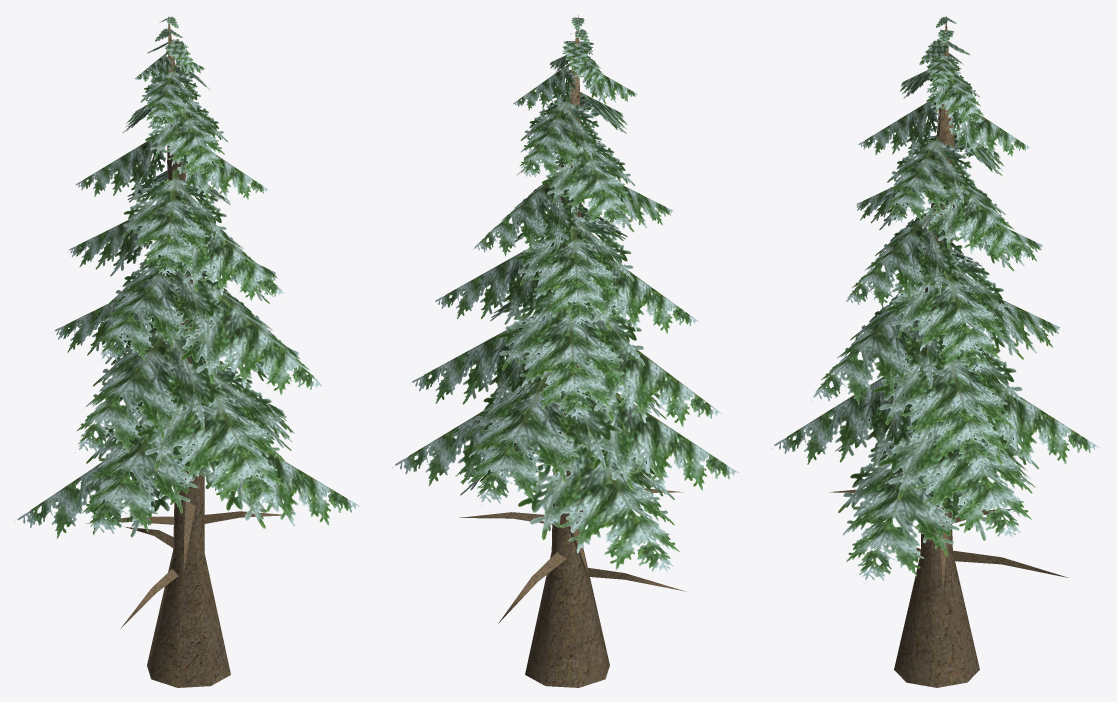
The model's file is pine-mid.glb.
3 renders of one model, left to right at view 1: azimuth 30°, elevation 25°; view 2: azimuth 150°, elevation 25°; view 3: azimuth 270°, elevation 25°, orthographic. The views are drawn at different scales.
Visible parts, largest first — view 1: fir_branch.png__, fir_bark.png__; view 2: fir_branch.png__, fir_bark.png__; view 3: fir_branch.png__, fir_bark.png__.
Boxes of the visible parts, bbox=[...] form: fir_branch.png__: bbox=[14, 16, 360, 538]; fir_bark.png__: bbox=[86, 16, 281, 687]; fir_branch.png__: bbox=[392, 17, 742, 571]; fir_bark.png__: bbox=[459, 15, 685, 687]; fir_branch.png__: bbox=[771, 16, 1099, 583]; fir_bark.png__: bbox=[830, 16, 1068, 687].
Bounding box in the file's own units: 6 × 11.88 × 5.51.
2 materials, 2 textured.
